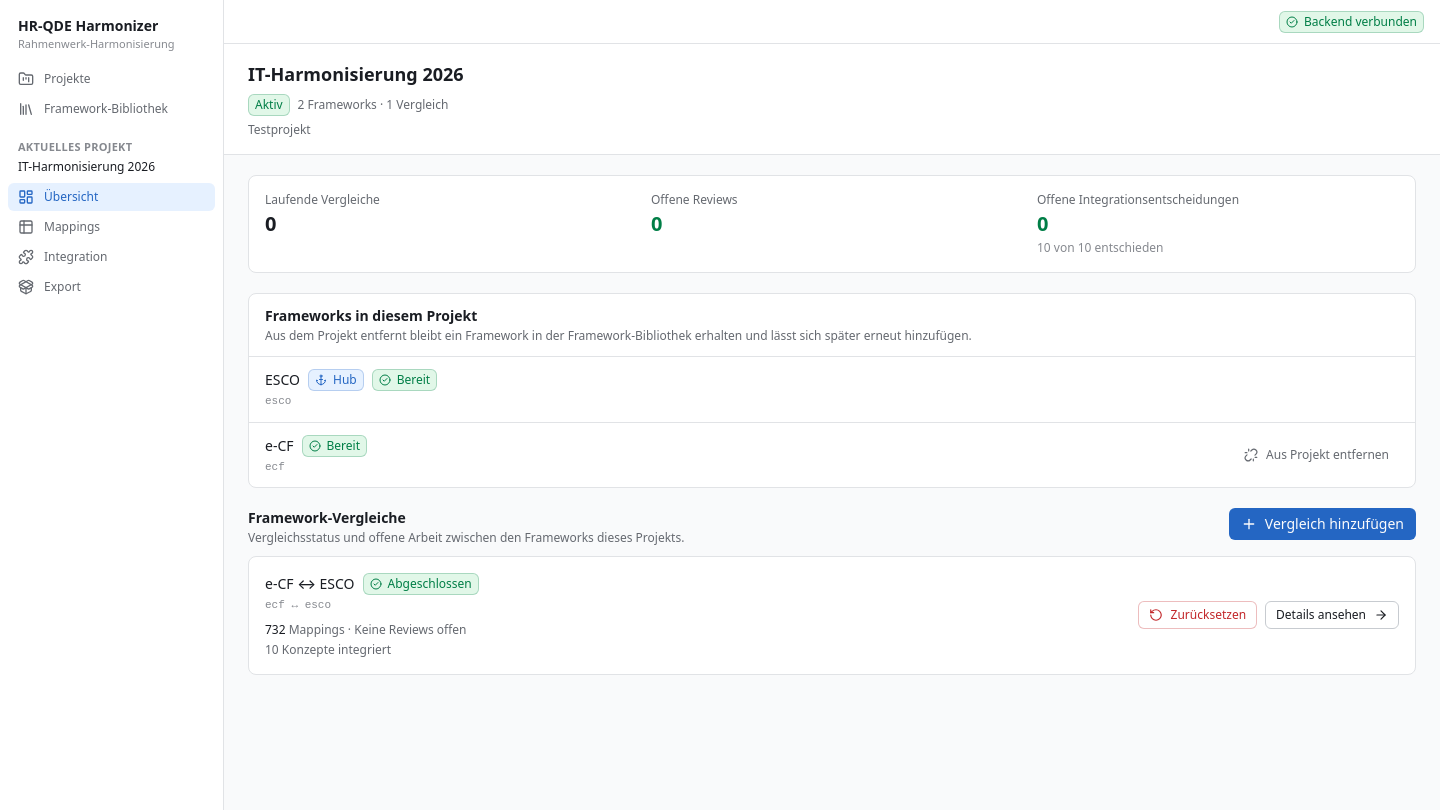
Test: Klassifikation starten und verfolgen › verhindert den Start, wenn beide Seiten dasselbe Framework wären
This screenshot has width=1440, height=810.
Click the button "Vergleich hinzufügen": (1322, 524) [1229,508,1416,540]
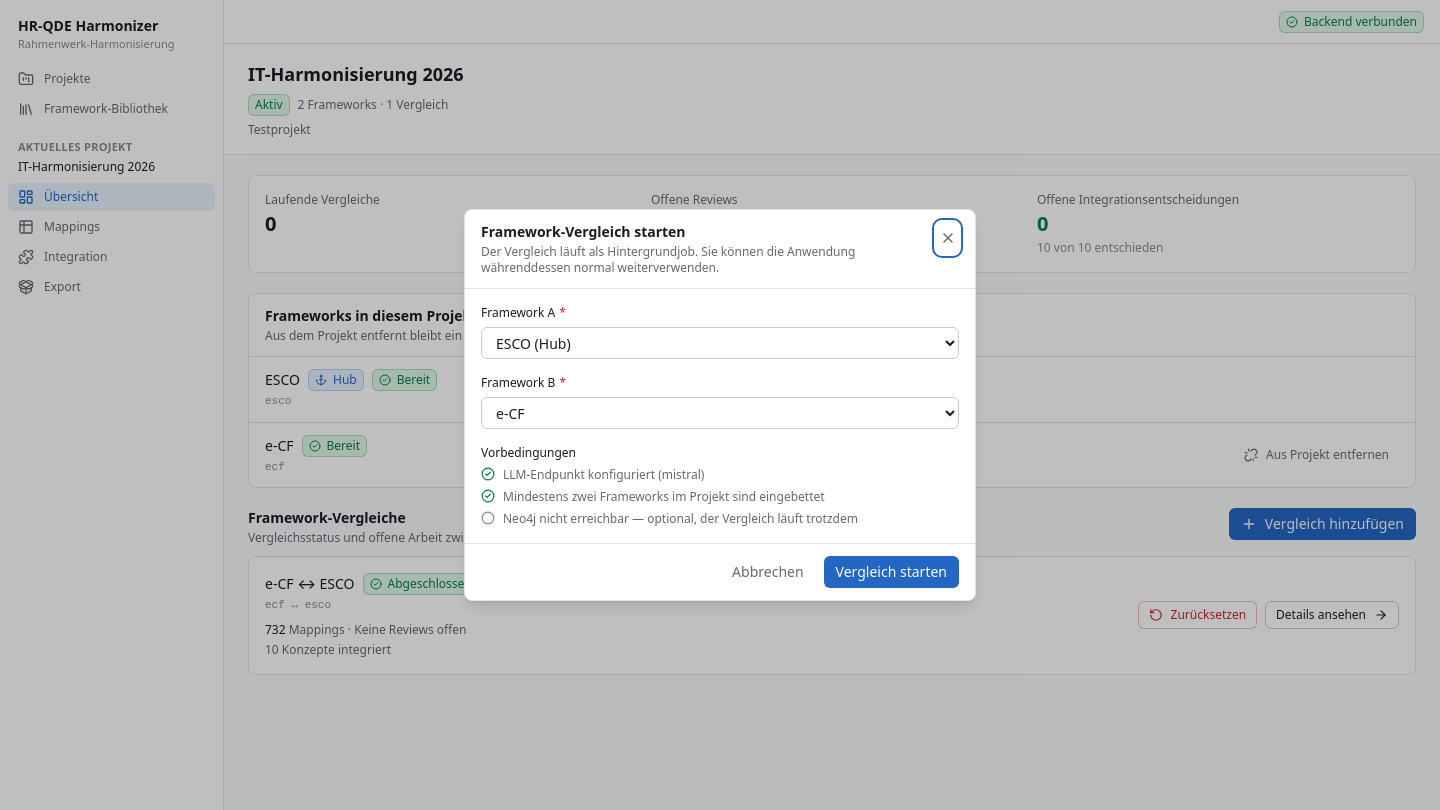
Select "ESCO (Hub)" in the dropdown labelled "Framework B*": (720, 413) [481,397,959,429]
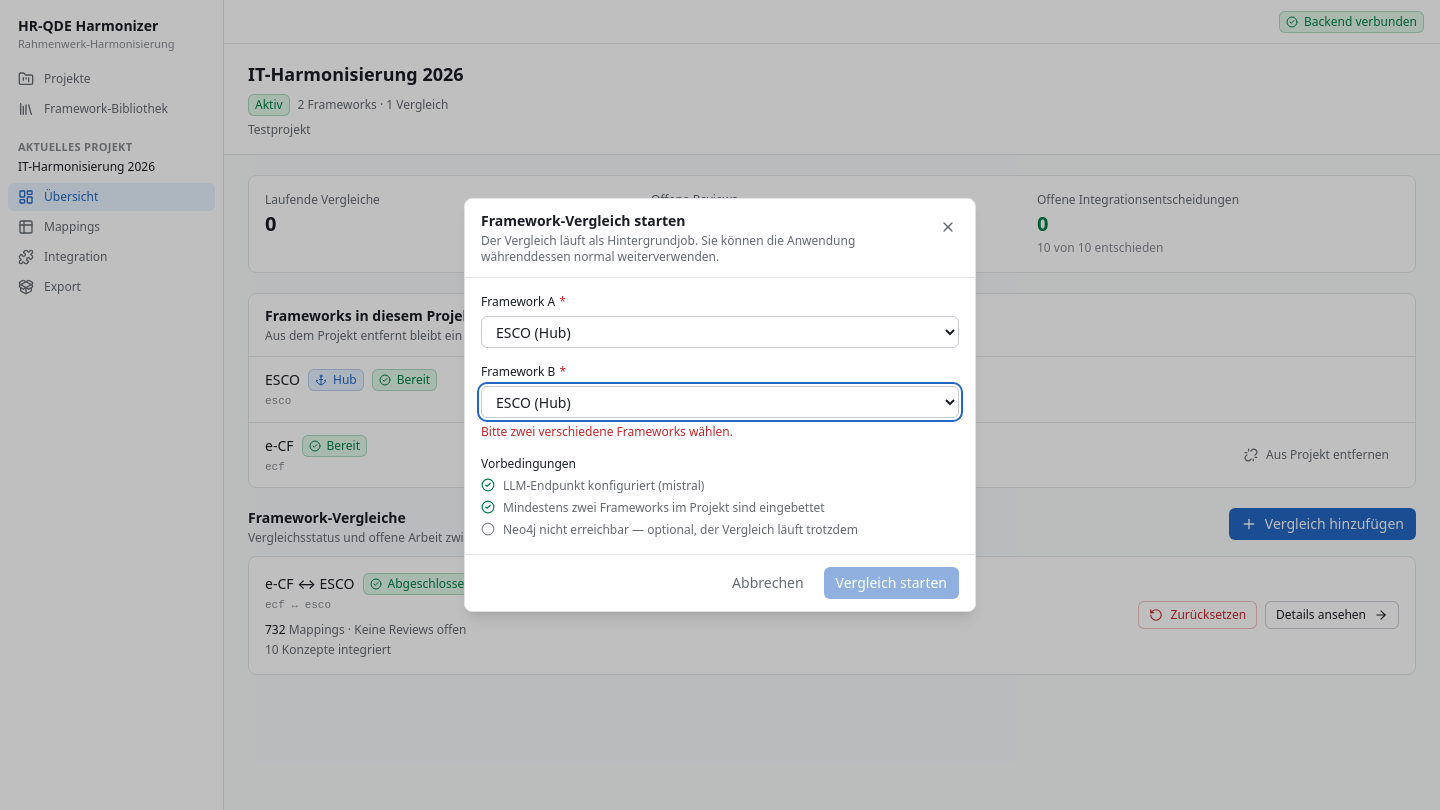
expect the button "Vergleich starten" is disabled: met, box [824,567,959,599]
expect the text "Bitte zwei verschiedene Frameworks wählen." is shown: met, box [481,423,733,440]
